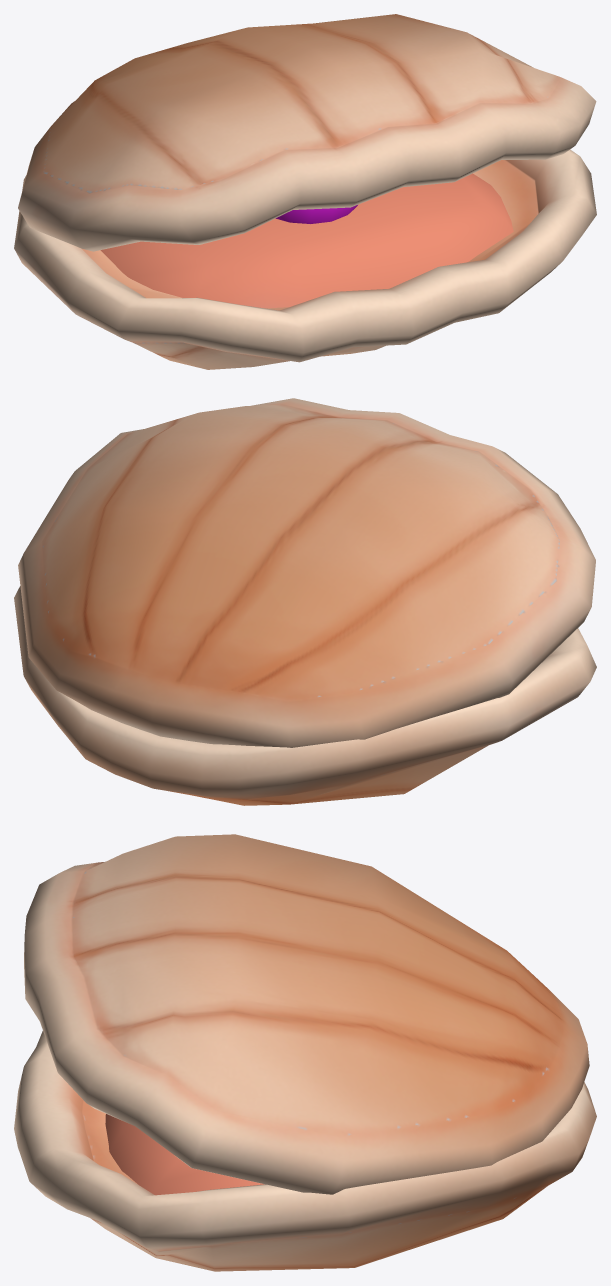
Rendered from SM_Clam.fbx.
The picture shows the model from 3 angles, top to bottom: view 1: azimuth 30°, elevation 25°; view 2: azimuth 150°, elevation 25°; view 3: azimuth 270°, elevation 25°; orthographic projection. The views are drawn at different scales.
Parts seen in each view (by area): view 1: SM_Clam; view 2: SM_Clam; view 3: SM_Clam.
Boxes of the visible parts, x1,y1,x2,y2 form: SM_Clam: (14, 14, 596, 369); SM_Clam: (14, 398, 596, 805); SM_Clam: (14, 834, 596, 1271).
Bounding box in the file's own units: 2.64 × 1.39 × 2.3.
